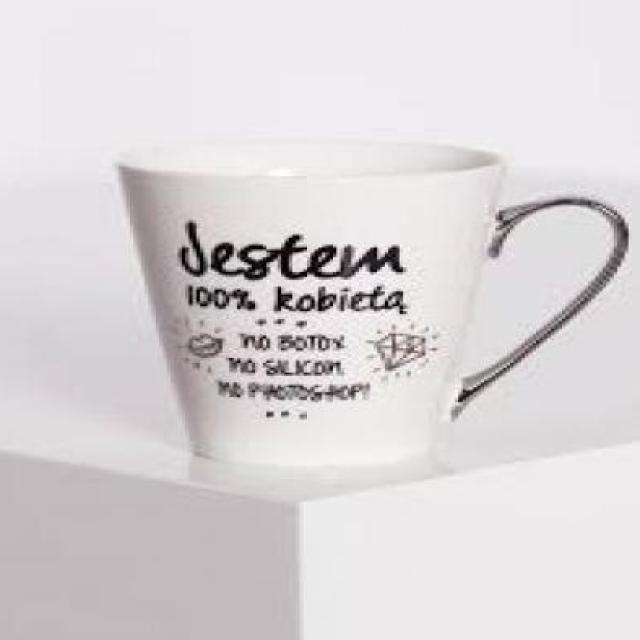cup: (81, 133, 639, 472)
